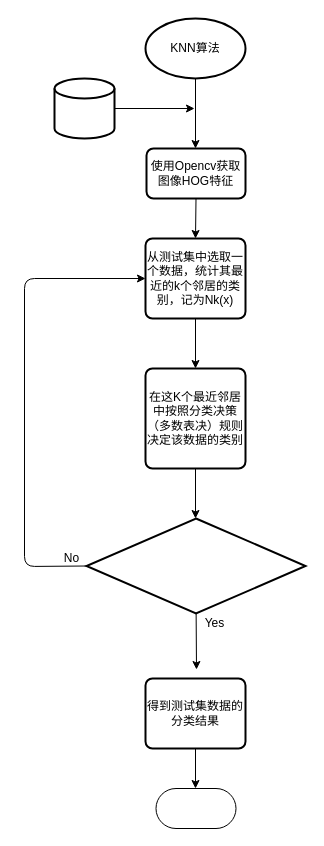
Some shapes in this 324 by 846 pixel diagram are drawn without their labels. Each missing label, with the box of its shape:
End: (155, 788, 236, 828)
数据集T: (53, 77, 115, 139)
是否完成全部测试集的预测？: (85, 517, 306, 614)
